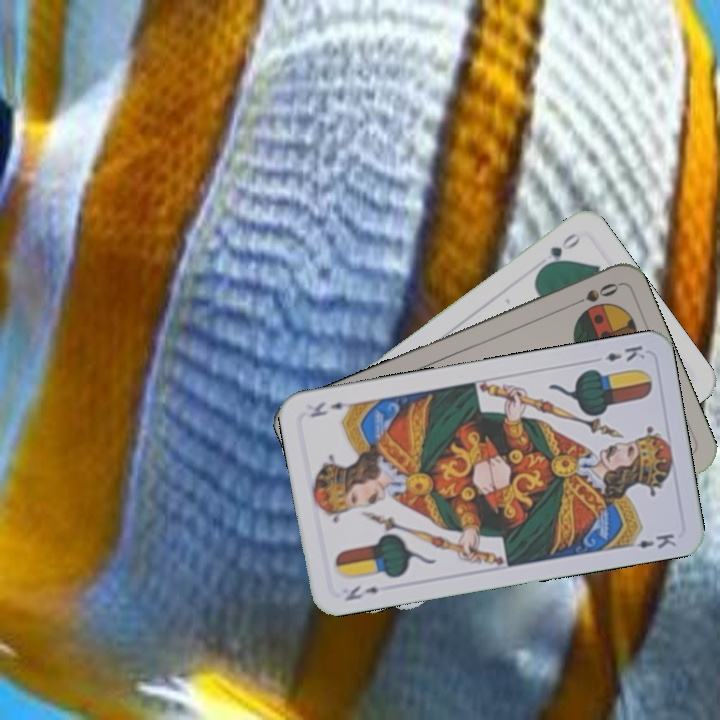EK: (601, 341, 648, 364), (341, 581, 382, 604)
GO: (536, 228, 583, 273)
SO: (564, 278, 621, 310)
